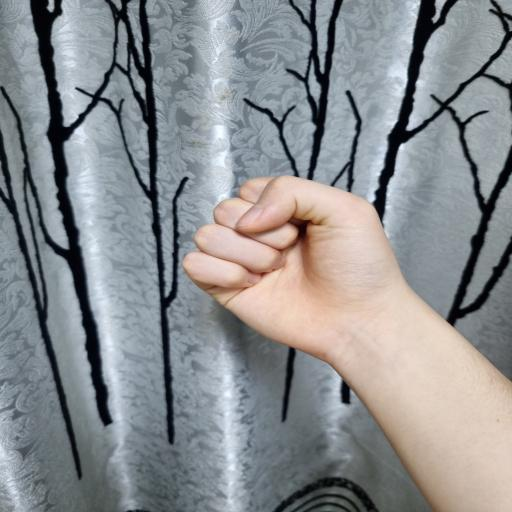Rock: (182, 174, 409, 363)
